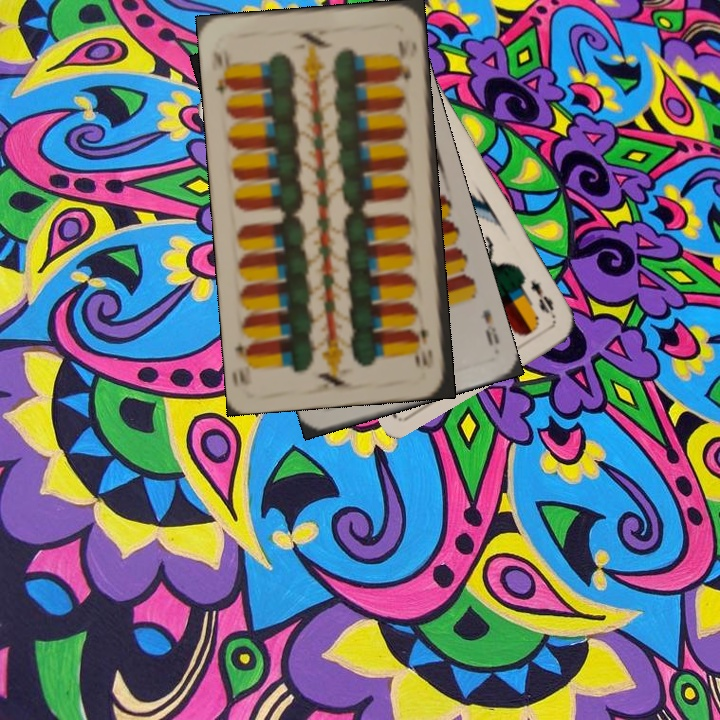E10: (209, 47, 236, 98), (415, 324, 436, 371)
E9: (476, 305, 502, 349)
EO: (526, 276, 557, 317)
